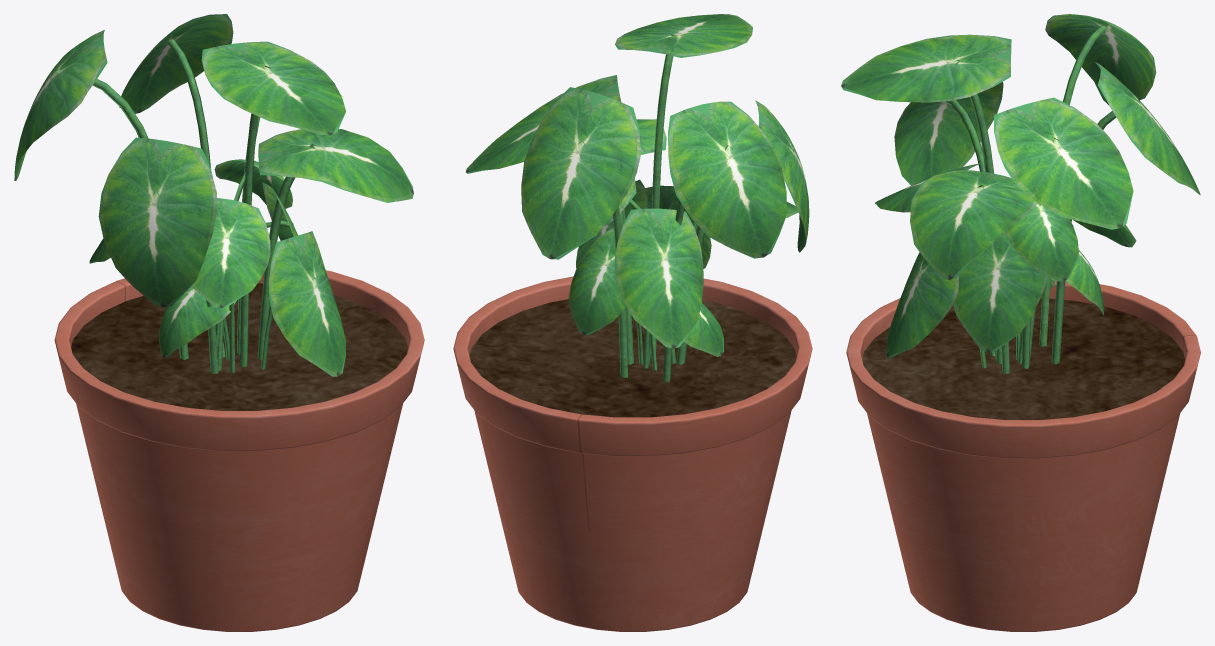
File: colocasia_potted (1).glb
3 renders of one model, left to right at view 1: azimuth 30°, elevation 25°; view 2: azimuth 150°, elevation 25°; view 3: azimuth 270°, elevation 25°, orthographic. The views are drawn at different scales.
Visible parts, largest first — view 1: LOD0; view 2: LOD0; view 3: LOD0.
Boxes of the visible parts, bbox=[...] form: LOD0: bbox=[14, 14, 424, 631]; LOD0: bbox=[453, 14, 812, 631]; LOD0: bbox=[841, 14, 1200, 631].
Size of what is drawn, in the model's own units: 0.0269 by 0.0404 by 0.0251.
2 materials, 2 textured.
